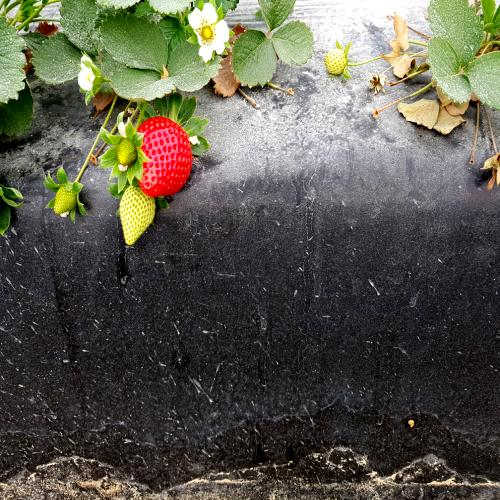ripe: (130, 112, 203, 208)
